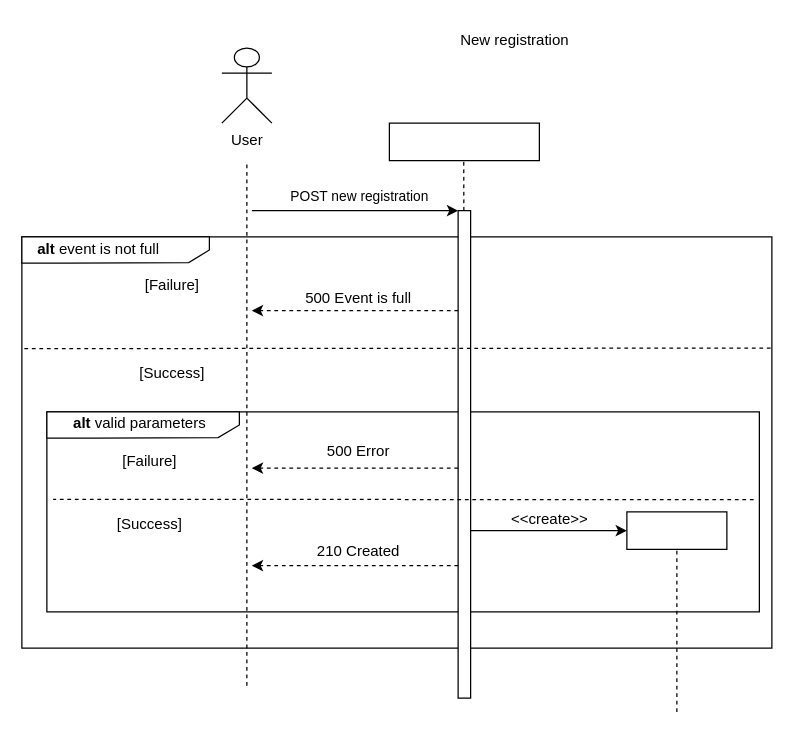
Image size: 795x735. Some labels were removed from this diagram. The shapes that lost their labels are listed below. From the top down, each one's centre as x and y in pixels, then its label:
At (463,141): ":System".
At (676,530): ":Registration".
